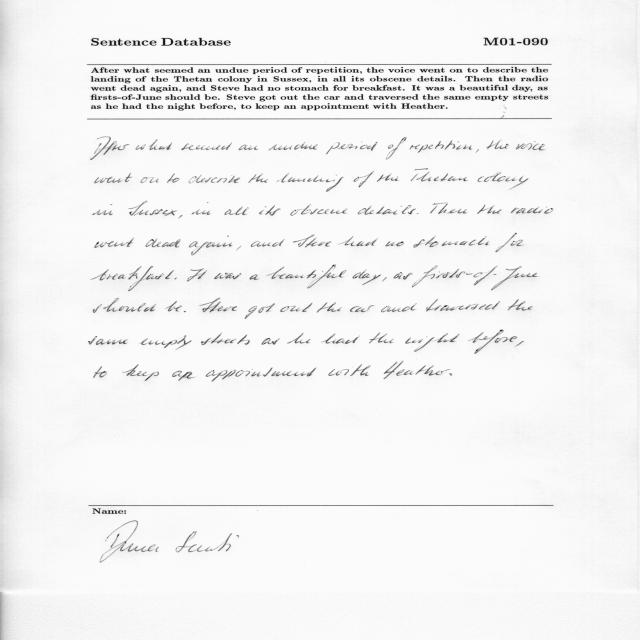word: (412, 266, 538, 291), (91, 266, 174, 291), (267, 265, 346, 288), (206, 368, 316, 382), (277, 174, 344, 192), (384, 361, 450, 379), (468, 330, 517, 354), (406, 333, 460, 352), (426, 299, 500, 312), (93, 298, 156, 313), (413, 236, 489, 248), (91, 137, 130, 160), (478, 172, 529, 189), (189, 236, 232, 256), (410, 140, 473, 153), (140, 335, 192, 350), (411, 169, 468, 182), (129, 201, 178, 216), (290, 204, 348, 216), (326, 142, 377, 155), (123, 364, 159, 381), (201, 333, 250, 345), (358, 205, 416, 215), (199, 298, 237, 313), (495, 233, 523, 252), (329, 364, 371, 376), (293, 235, 331, 248), (386, 137, 407, 160), (245, 303, 275, 319), (430, 202, 467, 214), (352, 270, 381, 285), (181, 143, 232, 151), (189, 175, 240, 183), (136, 139, 172, 150), (323, 333, 359, 344), (269, 142, 318, 150), (95, 238, 134, 248), (338, 236, 377, 246), (95, 173, 132, 183), (89, 336, 127, 345), (381, 304, 417, 313), (354, 171, 374, 187), (146, 239, 181, 248), (508, 299, 533, 311), (511, 207, 553, 214), (280, 303, 312, 312), (187, 268, 207, 282), (317, 302, 342, 313), (369, 333, 394, 344), (251, 239, 285, 247), (516, 141, 545, 150), (191, 202, 211, 215), (172, 370, 195, 381), (486, 140, 509, 150), (287, 333, 310, 343), (477, 205, 502, 214), (93, 204, 113, 215), (259, 205, 281, 215), (224, 207, 249, 215), (248, 174, 268, 183), (377, 174, 398, 182), (350, 305, 374, 312), (214, 273, 241, 279), (166, 301, 182, 311), (94, 366, 107, 378), (394, 272, 413, 280), (261, 338, 280, 345), (167, 173, 179, 183), (141, 177, 159, 183), (239, 145, 258, 150), (385, 242, 404, 247), (250, 274, 260, 280), (515, 341, 524, 346), (237, 246, 242, 251), (382, 278, 387, 282), (476, 149, 479, 153), (179, 215, 183, 218), (449, 374, 452, 376), (175, 278, 177, 280), (417, 213, 419, 214), (184, 311, 186, 312)
